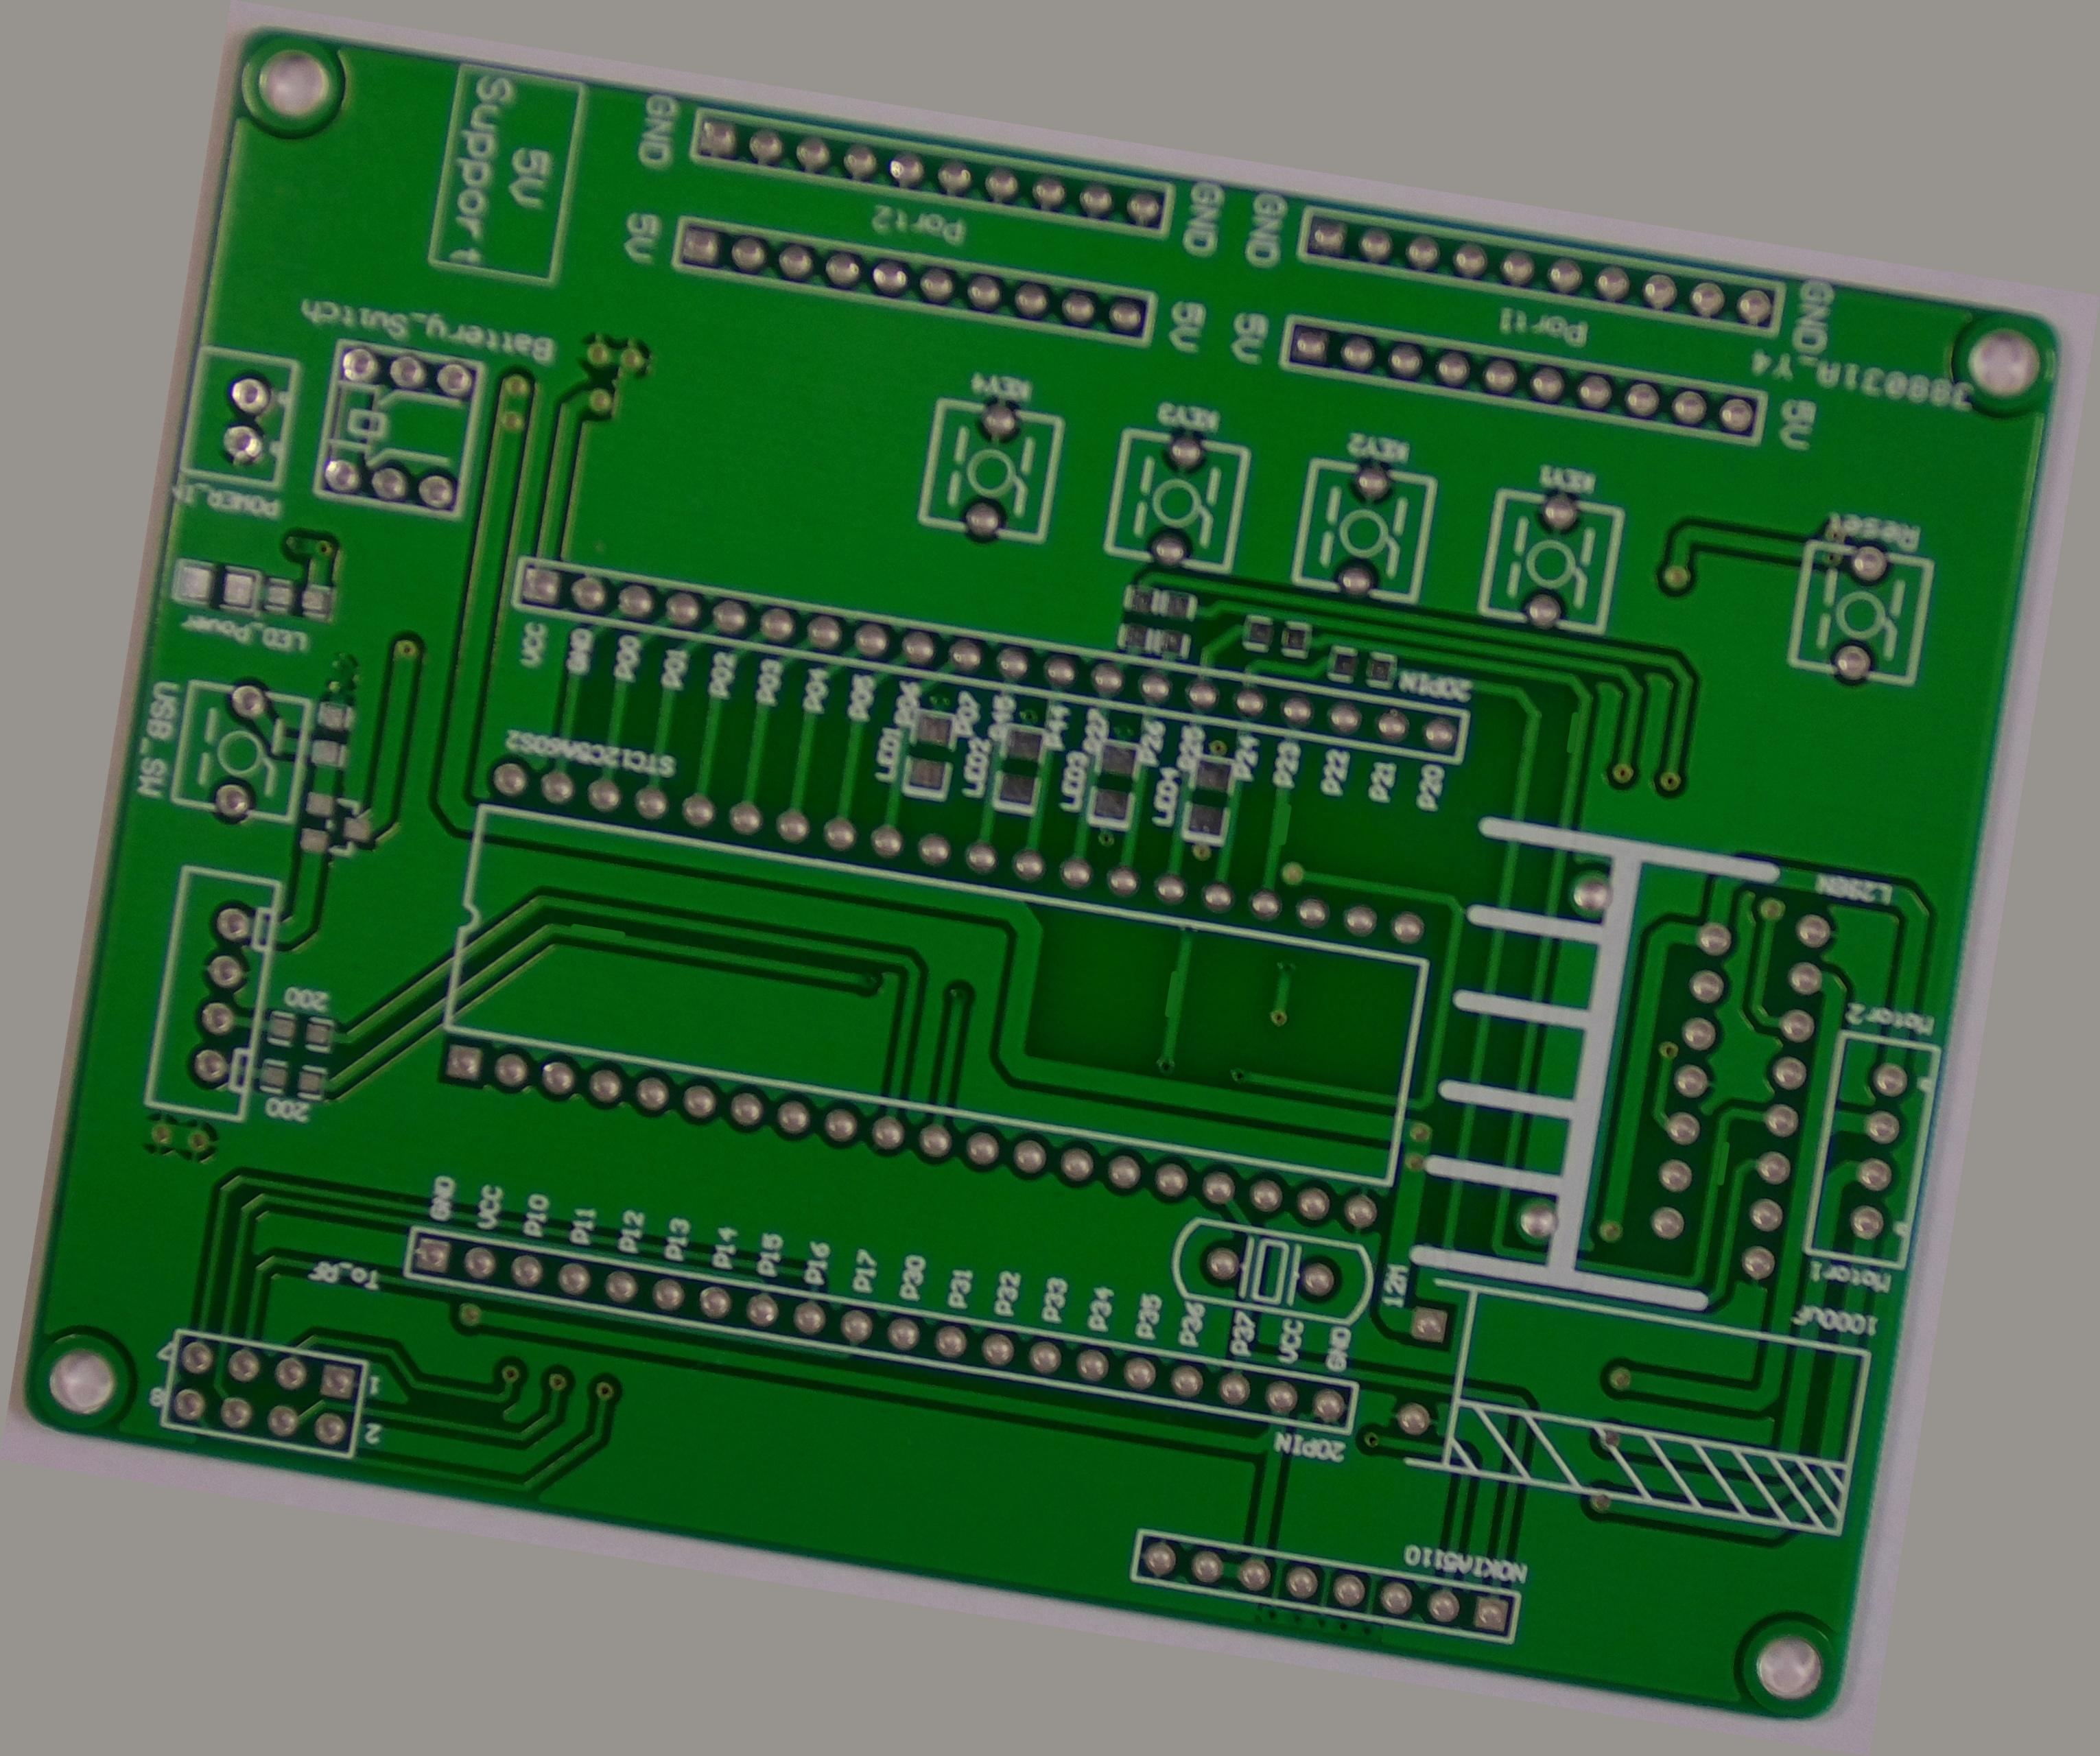spur: (1188, 950, 1224, 1024), (530, 1011, 600, 1046), (1817, 1053, 1847, 1126), (1278, 739, 1310, 804), (1584, 575, 1612, 640)
